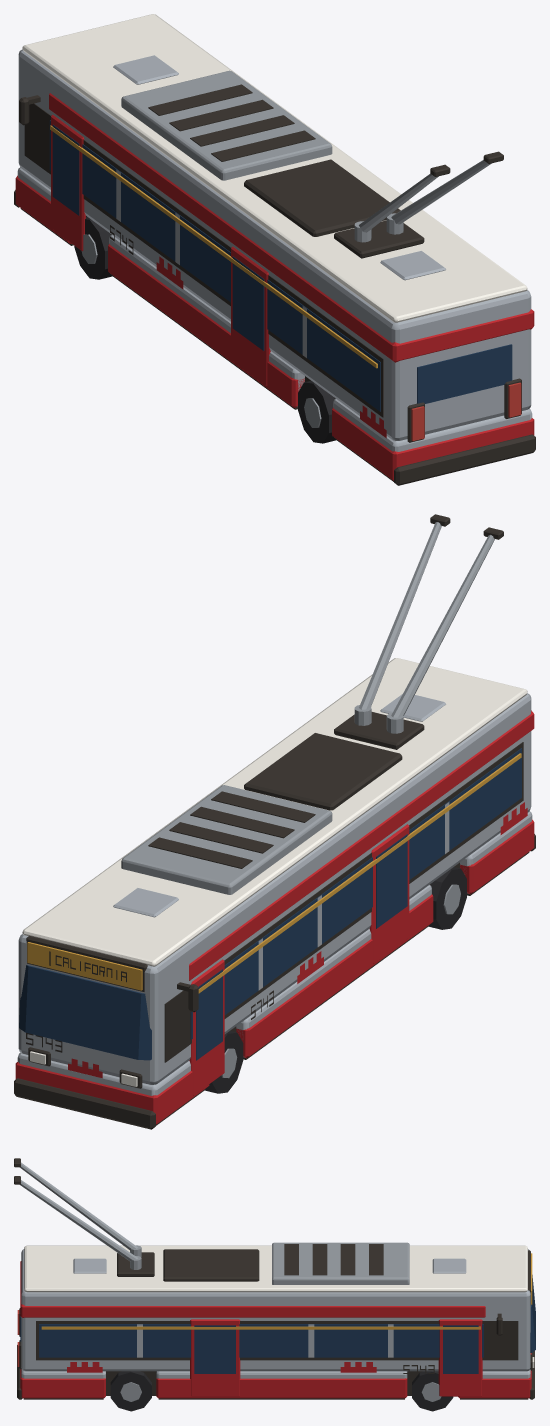
The model's file is muni-trolley-40.glb.
3 views of the same model, one above another, from view 1: azimuth 30°, elevation 25°; view 2: azimuth 150°, elevation 25°; view 3: azimuth 270°, elevation 25° (orthographic). The views are drawn at different scales.
Visible parts, largest first — view 1: Toy_silver, Toy_white, Toy_munired, Toy_ink, Toy_glass, Toy_steel, Toy_tire, Toy_mustard_Glow, Toy_red_Glow; view 2: Toy_silver, Toy_white, Toy_glass, Toy_ink, Toy_munired, Toy_steel, Toy_mustard_Glow, Toy_tire; view 3: Toy_silver, Toy_munired, Toy_glass, Toy_white, Toy_ink, Toy_steel, Toy_tire, Toy_mustard_Glow.
Boxes of the visible parts, x1,y1,x2,y2 form: Toy_silver: (17,49,532,451); Toy_white: (22,14,527,322); Toy_munired: (15,93,534,480); Toy_ink: (14,84,535,485); Toy_glass: (49,120,512,411); Toy_steel: (81,70,491,427); Toy_tire: (74,216,336,443); Toy_mustard_Glow: (50,125,377,368); Toy_red_Glow: (411,382,521,441); Toy_silver: (17,693,532,1095); Toy_white: (22,658,527,966); Toy_glass: (19,748,521,1060); Toy_ink: (14,514,535,1129); Toy_munired: (15,710,534,1124); Toy_steel: (121,522,494,1078); Toy_mustard_Glow: (27,753,521,993); Toy_tire: (205,867,466,1093); Toy_silver: (21,1249,530,1378); Toy_munired: (20,1261,531,1398); Toy_glass: (20,1275,535,1373); Toy_white: (24,1245,527,1292); Toy_ink: (14,1158,534,1399); Toy_steel: (20,1162,441,1401); Toy_tire: (110,1371,453,1411); Toy_mustard_Glow: (41,1253,532,1329).
Size of the model in its own units: 3.3 by 5.79 by 12.49.
